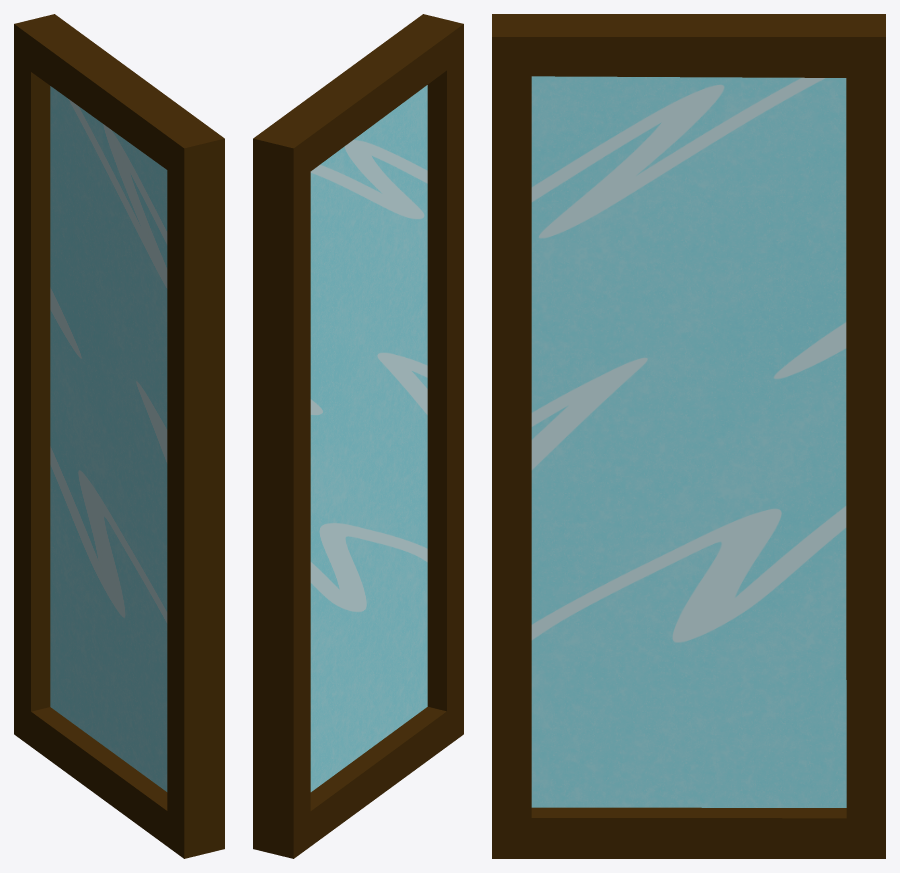
Rendered from TerraceDoor1.obj.
3 renders of one model, left to right at view 1: azimuth 30°, elevation 25°; view 2: azimuth 150°, elevation 25°; view 3: azimuth 270°, elevation 25°, orthographic. The views are drawn at different scales.
Visible parts, largest first — view 1: TerraceDoor2 TerraceDoors TerraceDoorFrame2, TerraceDoorGlass2 TerraceDoor2 TerraceDoors; view 2: TerraceDoor2 TerraceDoors TerraceDoorFrame2, TerraceDoorGlass2 TerraceDoor2 TerraceDoors; view 3: TerraceDoorGlass2 TerraceDoor2 TerraceDoors, TerraceDoor2 TerraceDoors TerraceDoorFrame2.
Boxes of the visible parts, x1=… form: TerraceDoor2 TerraceDoors TerraceDoorFrame2: x1=14, y1=14, x2=224, y2=858; TerraceDoorGlass2 TerraceDoor2 TerraceDoors: x1=50, y1=86, x2=167, y2=791; TerraceDoor2 TerraceDoors TerraceDoorFrame2: x1=253, y1=14, x2=463, y2=858; TerraceDoorGlass2 TerraceDoor2 TerraceDoors: x1=310, y1=85, x2=427, y2=791; TerraceDoorGlass2 TerraceDoor2 TerraceDoors: x1=531, y1=76, x2=846, y2=807; TerraceDoor2 TerraceDoors TerraceDoorFrame2: x1=492, y1=14, x2=885, y2=858.
Bounding box in the file's own units: 17.75 × 297 × 129.
